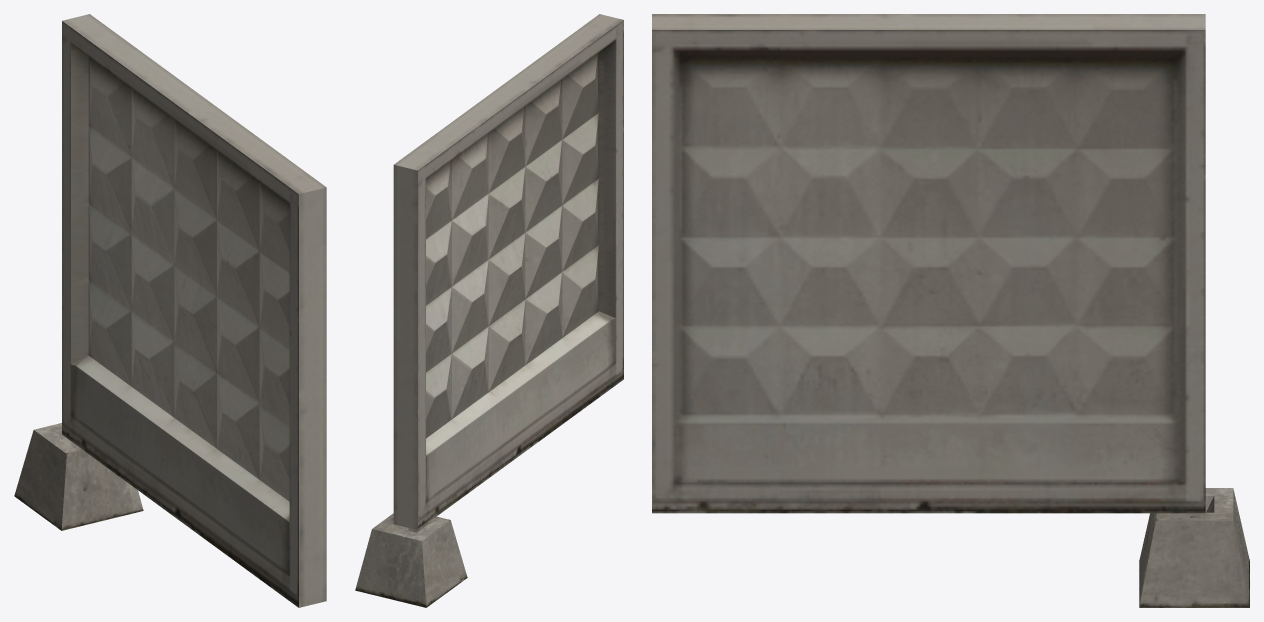
Rendered from bz_fence_PO2.fbx.
3 views of the same model, side by side, from view 1: azimuth 30°, elevation 25°; view 2: azimuth 150°, elevation 25°; view 3: azimuth 270°, elevation 25° (orthographic). The views are drawn at different scales.
Visible parts, largest first — view 1: bz_fence_PO2, FO2; view 2: bz_fence_PO2, FO2; view 3: bz_fence_PO2, FO2.
Part boxes in pixels (bbox=[...]): bz_fence_PO2: bbox=[62, 14, 326, 607]; FO2: bbox=[14, 423, 143, 530]; bz_fence_PO2: bbox=[393, 14, 623, 529]; FO2: bbox=[355, 513, 467, 607]; bz_fence_PO2: bbox=[652, 14, 1205, 513]; FO2: bbox=[1139, 488, 1249, 607].
Size of the model in its own units: 50 by 281 by 270.
